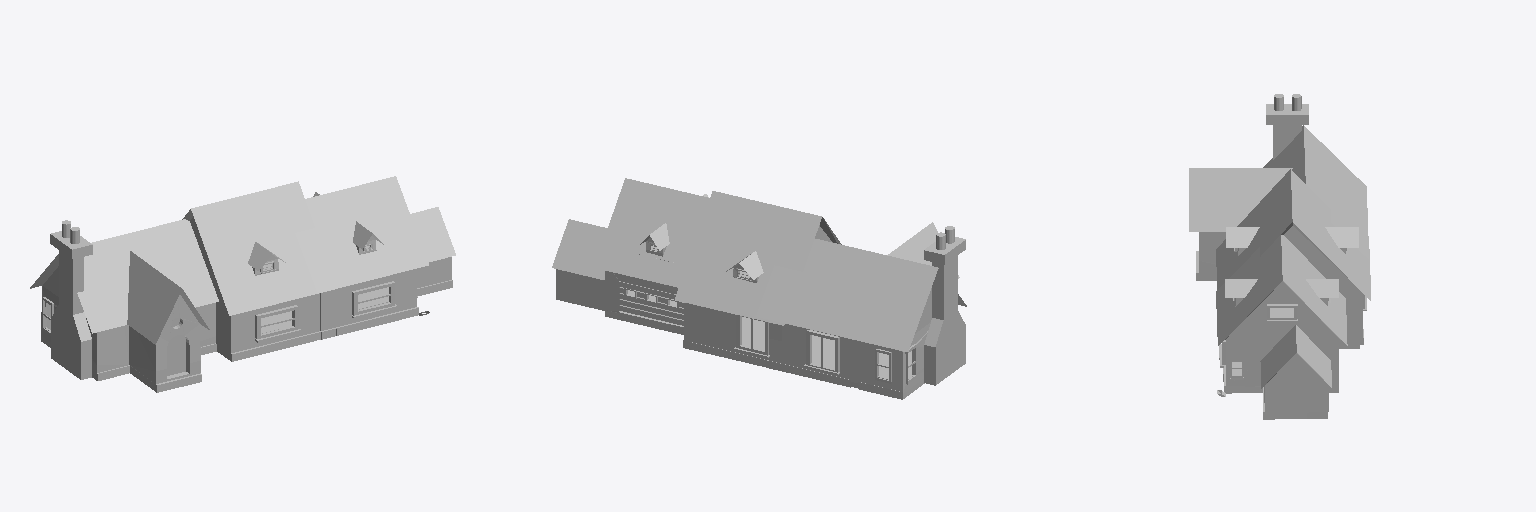
Rendered from casa.obj.
The picture shows the model from 3 angles: view 1: azimuth 30°, elevation 25°; view 2: azimuth 150°, elevation 25°; view 3: azimuth 270°, elevation 25°; orthographic projection.
Visible parts, largest first — view 1: polySurface283, polySurface257, polySurface284, polySurface270; view 2: polySurface283, polySurface257, polySurface284, polySurface270; view 3: polySurface283, polySurface257, polySurface284, polySurface270.
Part boxes in pixels (left/top/right/bottom): polySurface283: left=30, top=176, right=455, bottom=383; polySurface257: left=50, top=220, right=92, bottom=379; polySurface284: left=41, top=246, right=452, bottom=392; polySurface270: left=43, top=244, right=417, bottom=342; polySurface283: left=552, top=178, right=966, bottom=393; polySurface257: left=924, top=226, right=965, bottom=385; polySurface284: left=556, top=246, right=924, bottom=399; polySurface270: left=624, top=245, right=915, bottom=384; polySurface283: left=1189, top=125, right=1370, bottom=412; polySurface257: left=1266, top=94, right=1308, bottom=159; polySurface284: left=1196, top=251, right=1363, bottom=419; polySurface270: left=1219, top=248, right=1366, bottom=379.
Size of the model in its own units: 33.82 by 12.12 by 14.01.